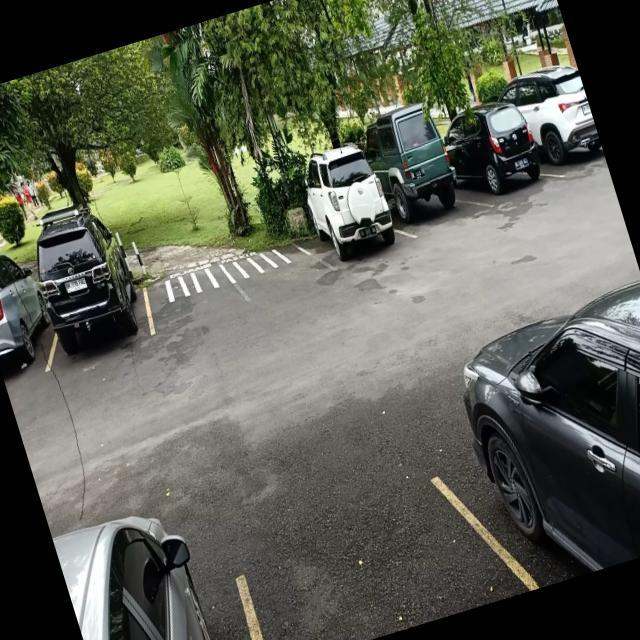occupied: (8, 205, 164, 382), (296, 151, 410, 281), (444, 110, 553, 215), (377, 129, 473, 244)
